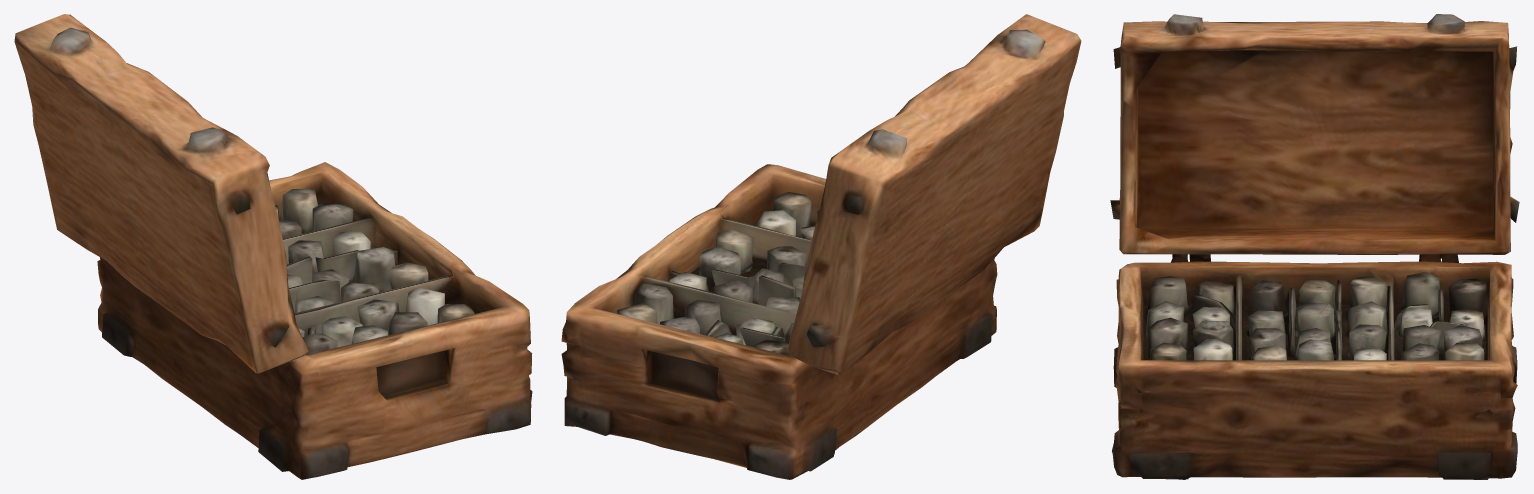
The model's file is qi_samplebox.glb.
3 renders of one model, left to right at view 1: azimuth 30°, elevation 25°; view 2: azimuth 150°, elevation 25°; view 3: azimuth 270°, elevation 25°, orthographic. The views are drawn at different scales.
Parts seen in each view (by area): view 1: tripo_node_025df132-a14a-4744-a606-ff00d87f0aa6; view 2: tripo_node_025df132-a14a-4744-a606-ff00d87f0aa6; view 3: tripo_node_025df132-a14a-4744-a606-ff00d87f0aa6.
Boxes of the visible parts, left/top/right/bottom form: tripo_node_025df132-a14a-4744-a606-ff00d87f0aa6: left=14, top=14, right=532, bottom=479; tripo_node_025df132-a14a-4744-a606-ff00d87f0aa6: left=561, top=14, right=1081, bottom=479; tripo_node_025df132-a14a-4744-a606-ff00d87f0aa6: left=1110, top=14, right=1519, bottom=479.
Size of the model in its own units: 0.8818 by 0.8873 by 1.
1 material, 1 textured.
